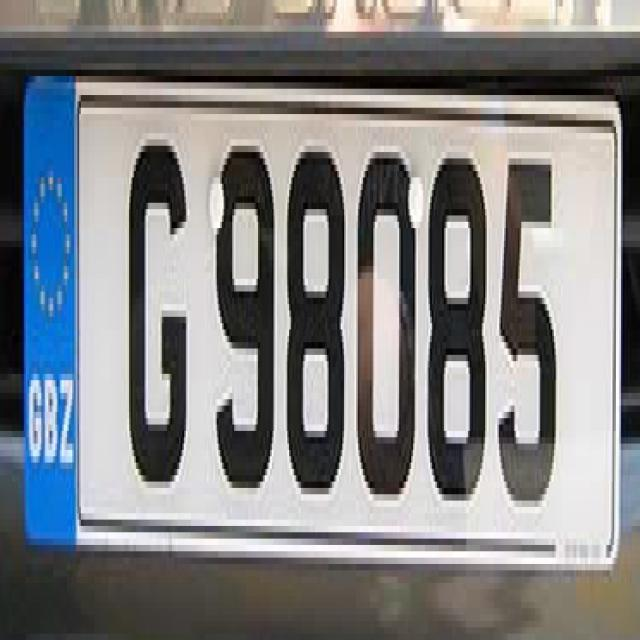Autre: (16, 33, 624, 591)
